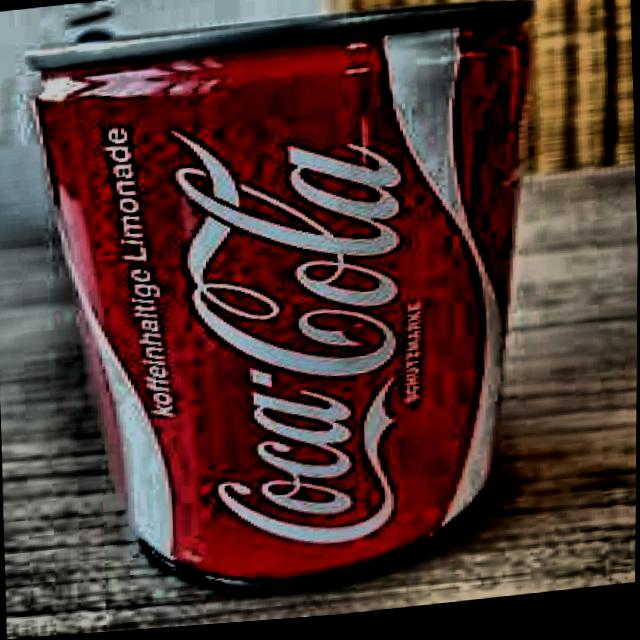Cans: (0, 0, 585, 634)
